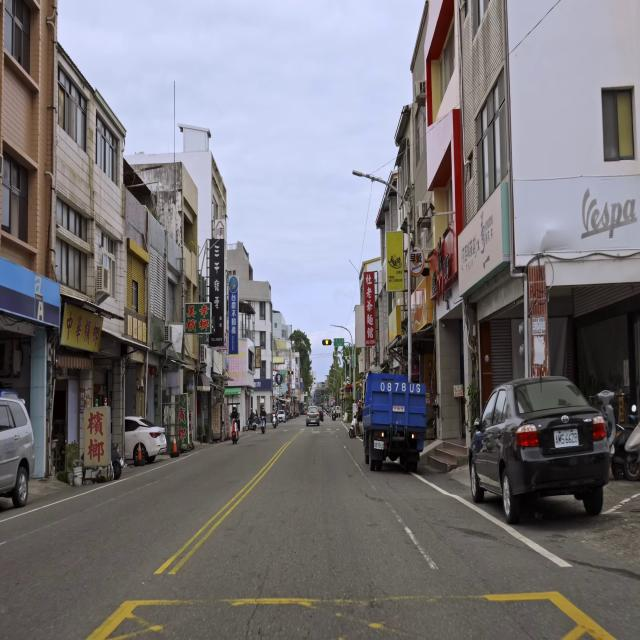yellow light: (322, 339, 332, 346), (288, 370, 294, 374)
